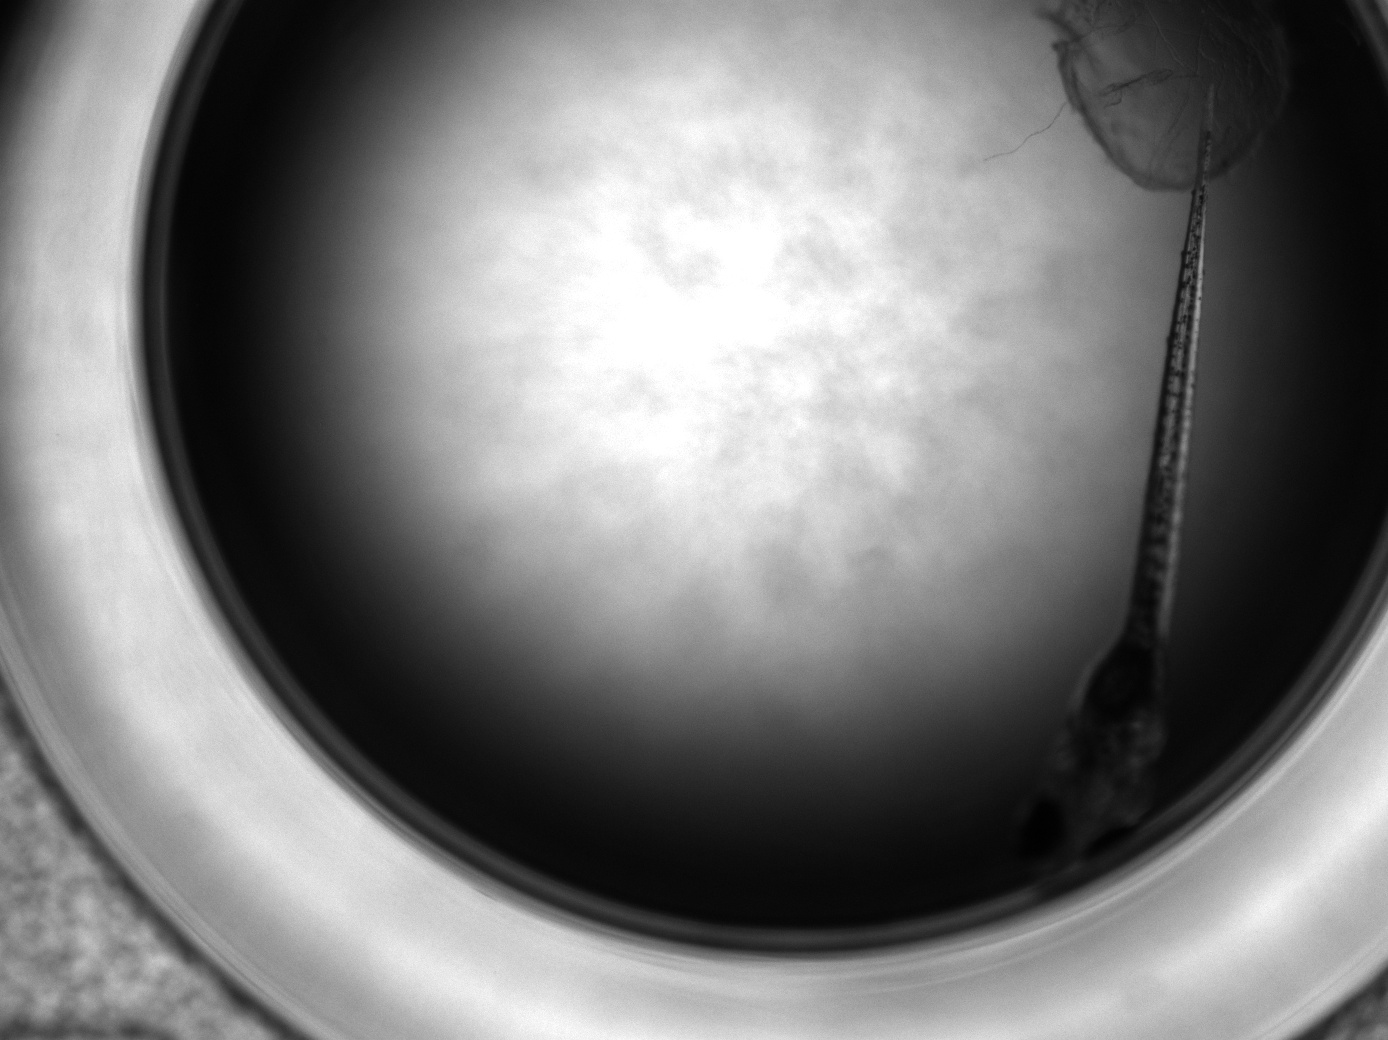debris: (1027, 1, 1283, 192)
embryo: (999, 82, 1217, 887)
